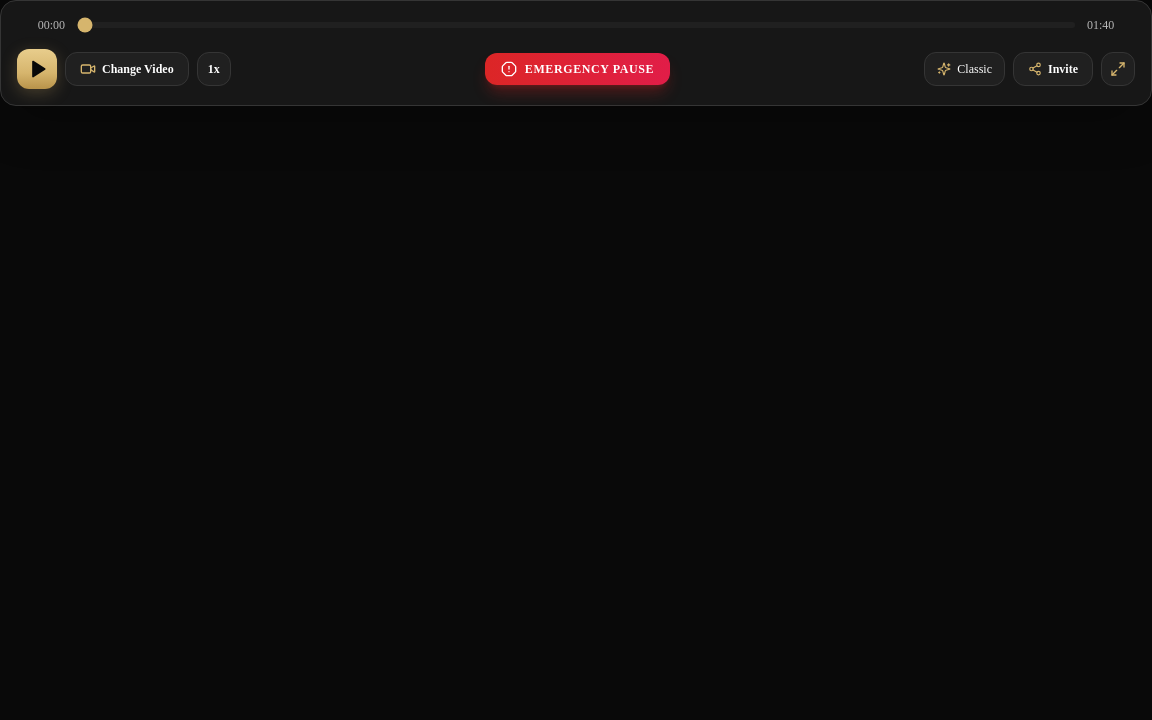
Test: PlaybackControls Component › Invite Sharing & Clipboard Handling › supports modal interactions (closing modal and input selection)
Click the button with test id "invite-btn" at (1053, 69), box [1013, 52, 1093, 86]
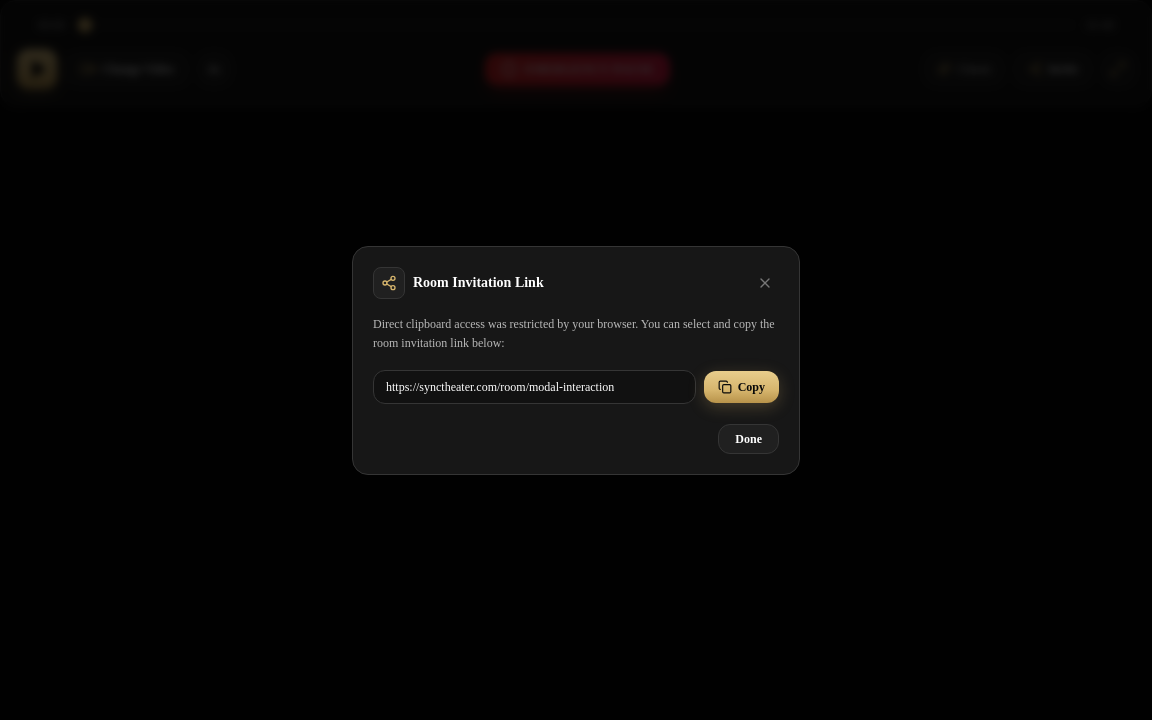
Now the dialog is shown
# Close modal using close button
Click the button with test id "close-invite-modal" at (765, 282), box [751, 268, 779, 296]
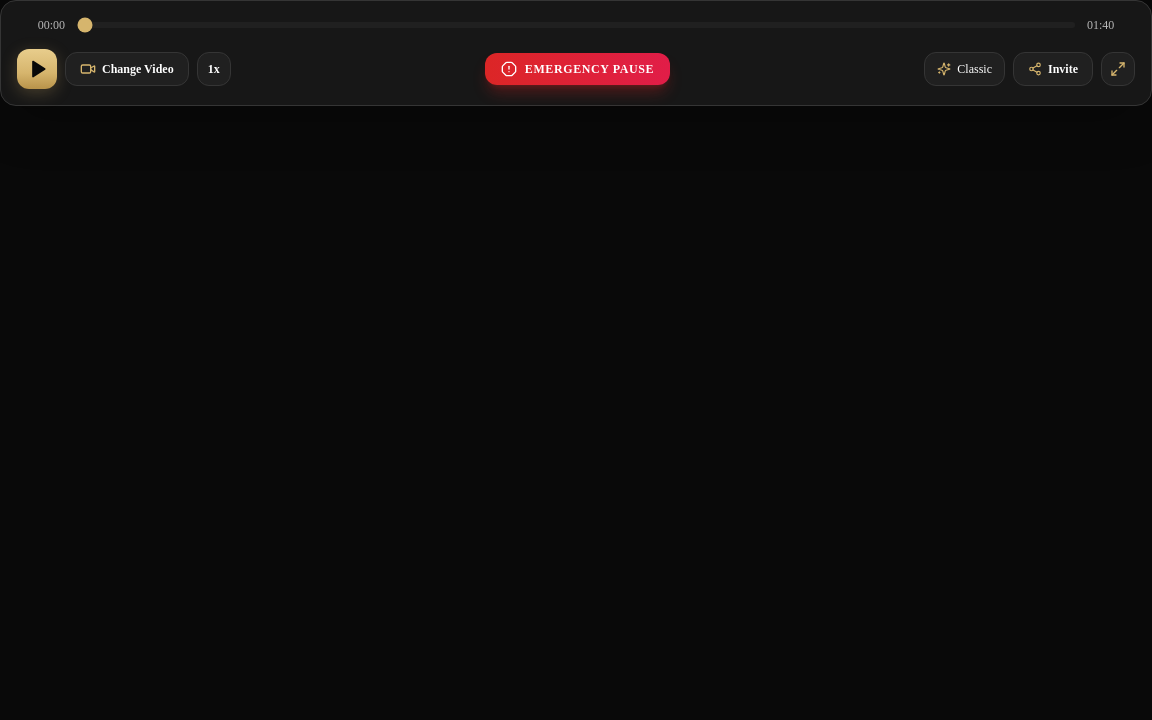
Now the dialog is gone
